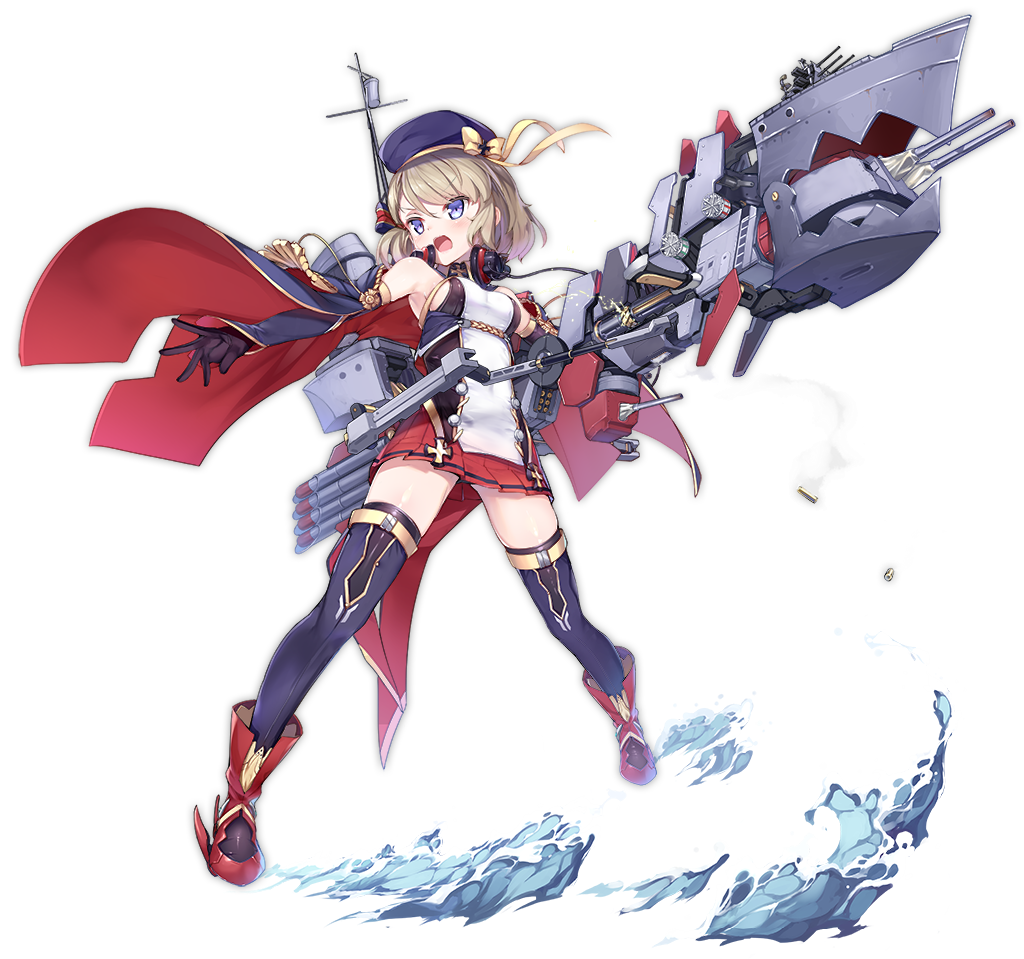person: (167, 102, 712, 773)
